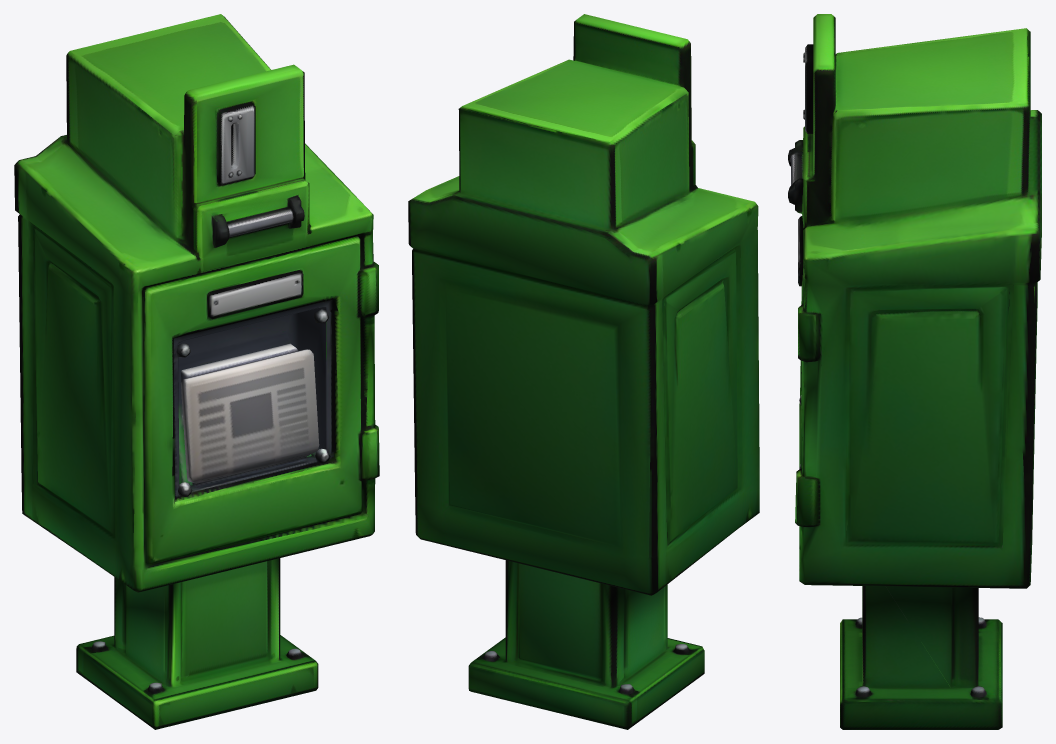
File: newsbox.glb
3 views of the same model, side by side, from view 1: azimuth 30°, elevation 25°; view 2: azimuth 150°, elevation 25°; view 3: azimuth 270°, elevation 25° (orthographic). The views are drawn at different scales.
Visible parts, largest first — view 1: tripo_node_b7da3dfa-5090-47c9-8b57-e815d624ef36; view 2: tripo_node_b7da3dfa-5090-47c9-8b57-e815d624ef36; view 3: tripo_node_b7da3dfa-5090-47c9-8b57-e815d624ef36.
Part boxes in pixels (x1,y1,x2,y2): tripo_node_b7da3dfa-5090-47c9-8b57-e815d624ef36: [14, 14, 379, 729]; tripo_node_b7da3dfa-5090-47c9-8b57-e815d624ef36: [408, 14, 759, 729]; tripo_node_b7da3dfa-5090-47c9-8b57-e815d624ef36: [788, 14, 1041, 729].
Size of the model in its own units: 0.4121 by 0.998 by 0.3535.
1 material, 1 textured.
